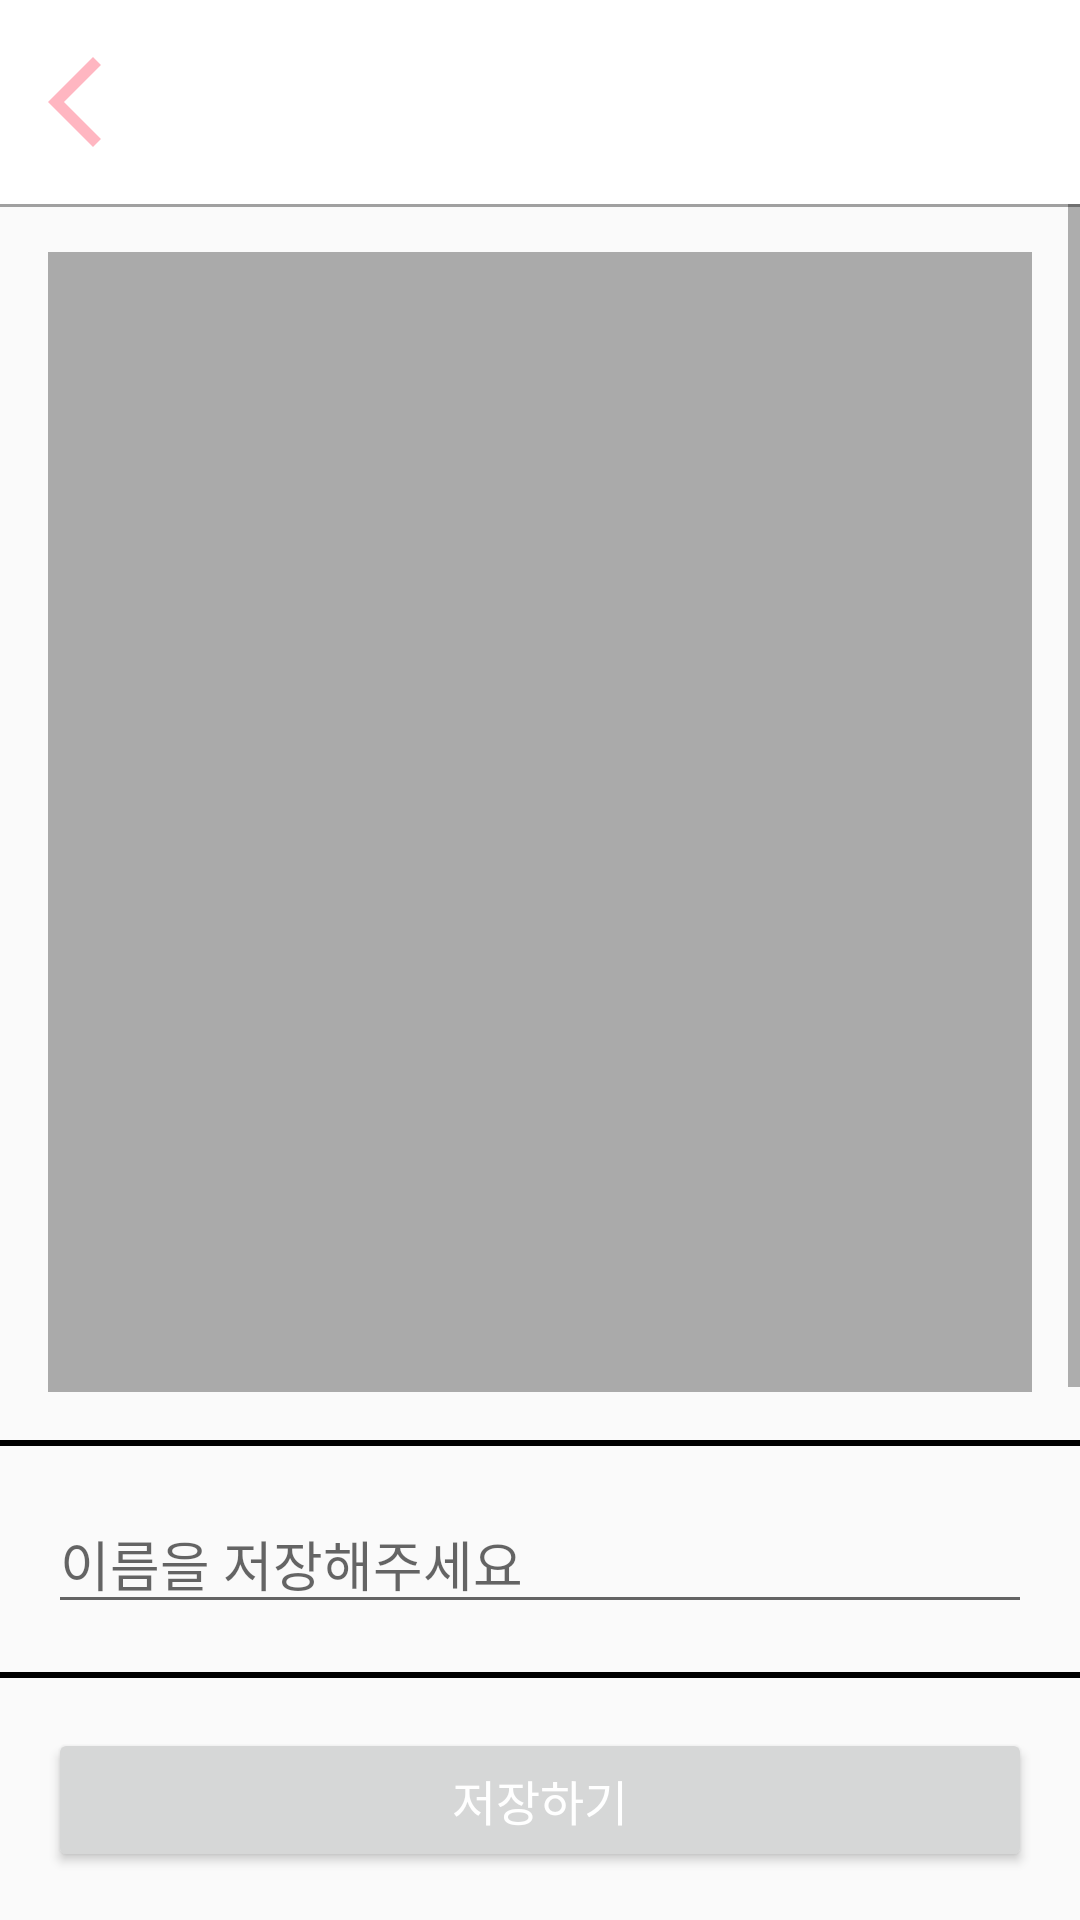

Icon click points for this 1080×1920 phone screenshot, format [x,y]:
뒤로가기 버튼: [74,102]
